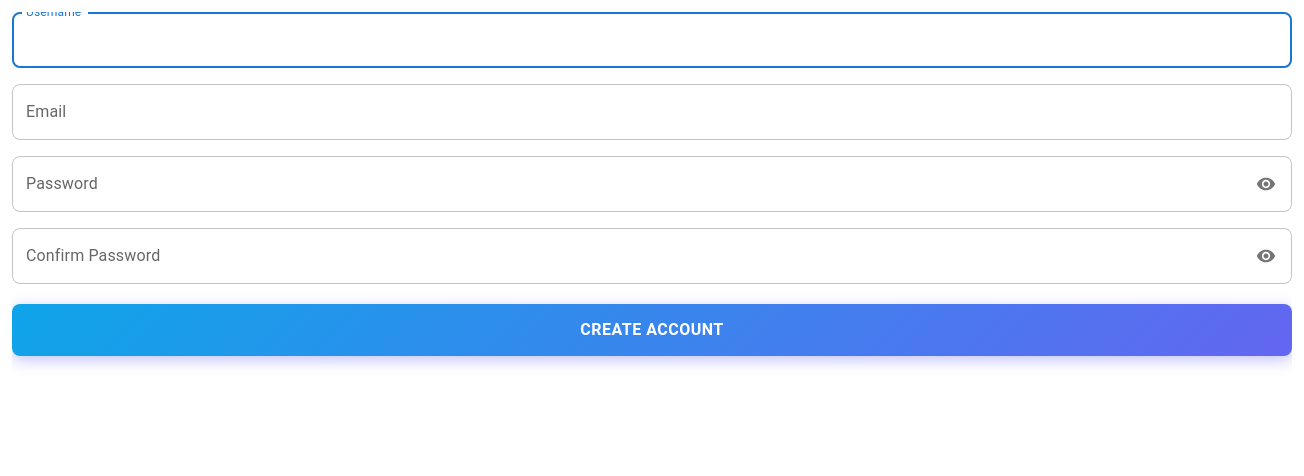
Test: RegisterForm › shows username regex error on invalid input with a space
Type "user name" into the field labelled "Username". click: (652, 40)
box: left=12, top=12, right=1292, bottom=68
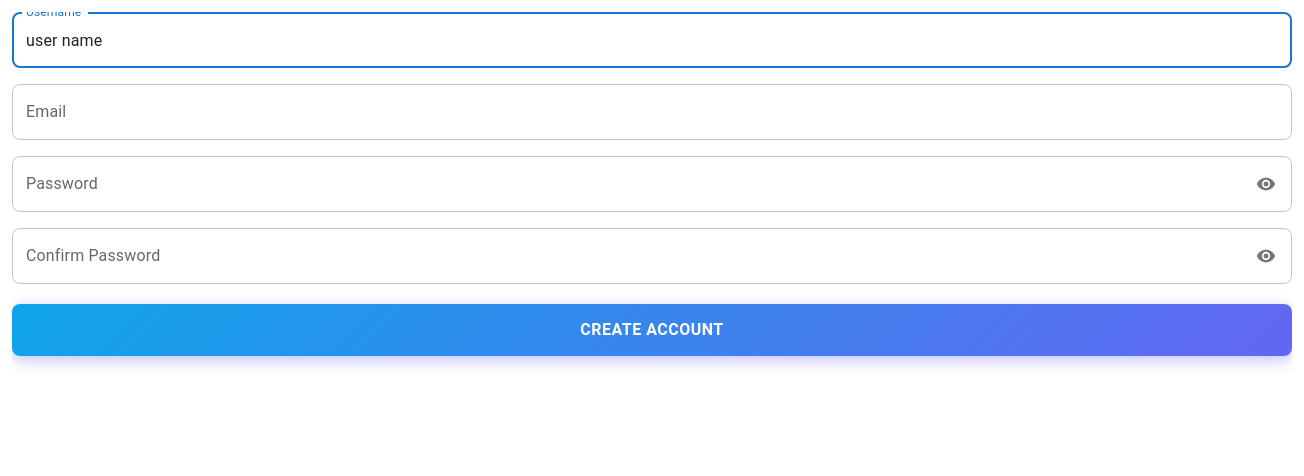
Click the button "Create Account". click: (652, 330)
box: left=12, top=304, right=1292, bottom=356
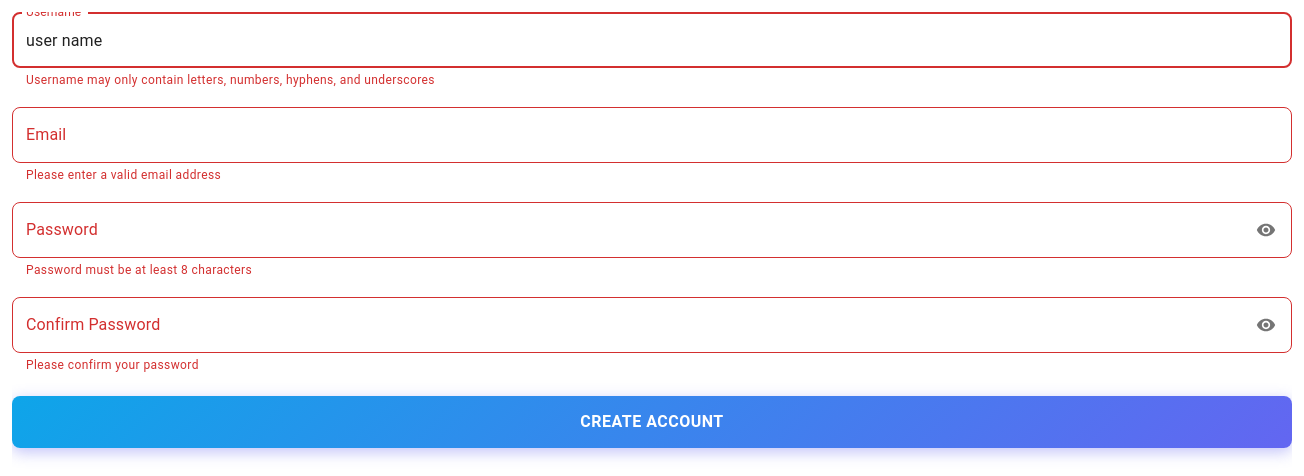
Expected: the text "Username may only contain letters, numbers, hyphens, and underscores" is shown, left=26, top=73, right=435, bottom=87
